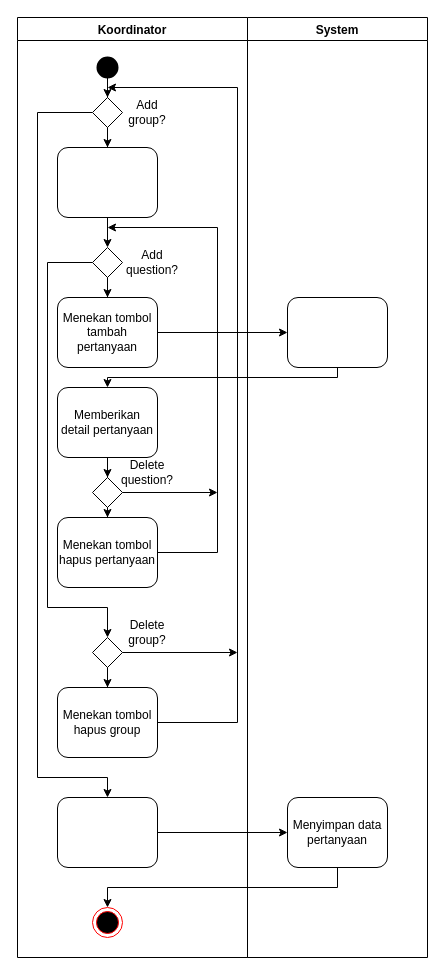
The diagram is 445 pixels wide and 975 high, and some of its shapes have lost their labels. Each missing label, with the centre of its shape:
"Menampilkan daftar jenis pertanyaan" belongs at [337,332].
"Menekan tombol simpan" belongs at [107,832].
"Menekan tombol tambah grup" belongs at [107,182].
